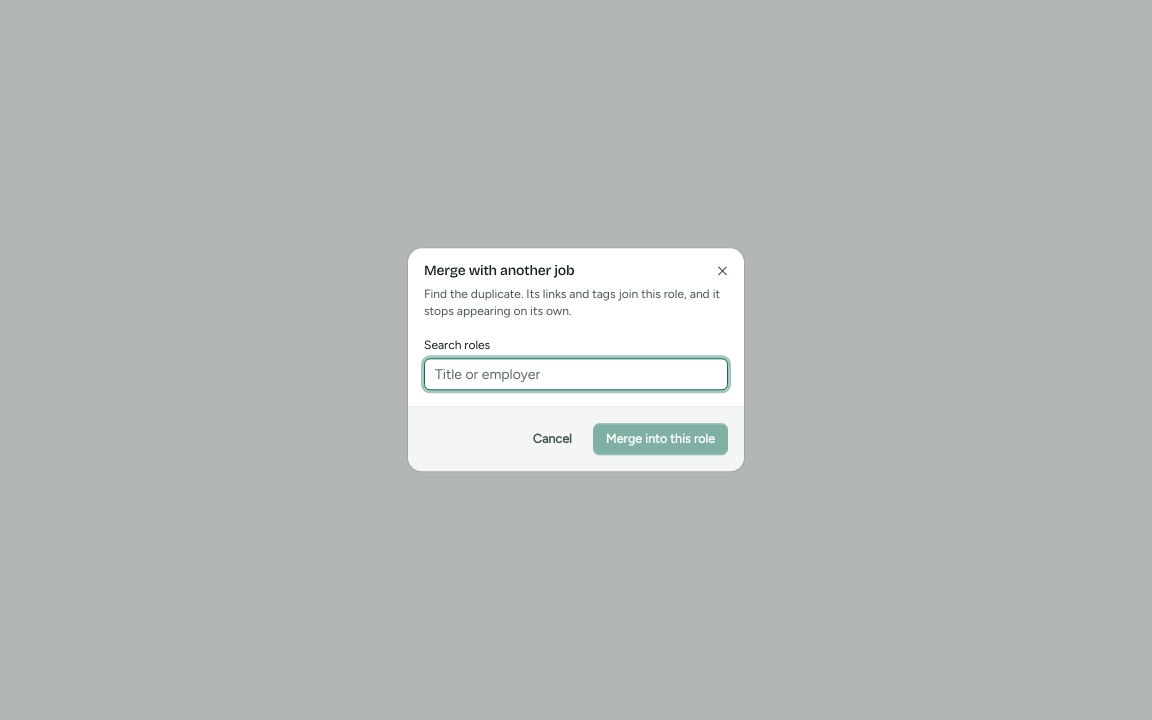
Test: MergeDialog › searches, previews what is kept, and merges
expect the button "Merge into this role" is disabled: met, box left=593, top=424, right=728, bottom=456
Type "Mulungushi Digital" into the field labelled "Search roles".
click(576, 375); type("Mulungushi Digital")  # box left=424, top=359, right=728, bottom=391
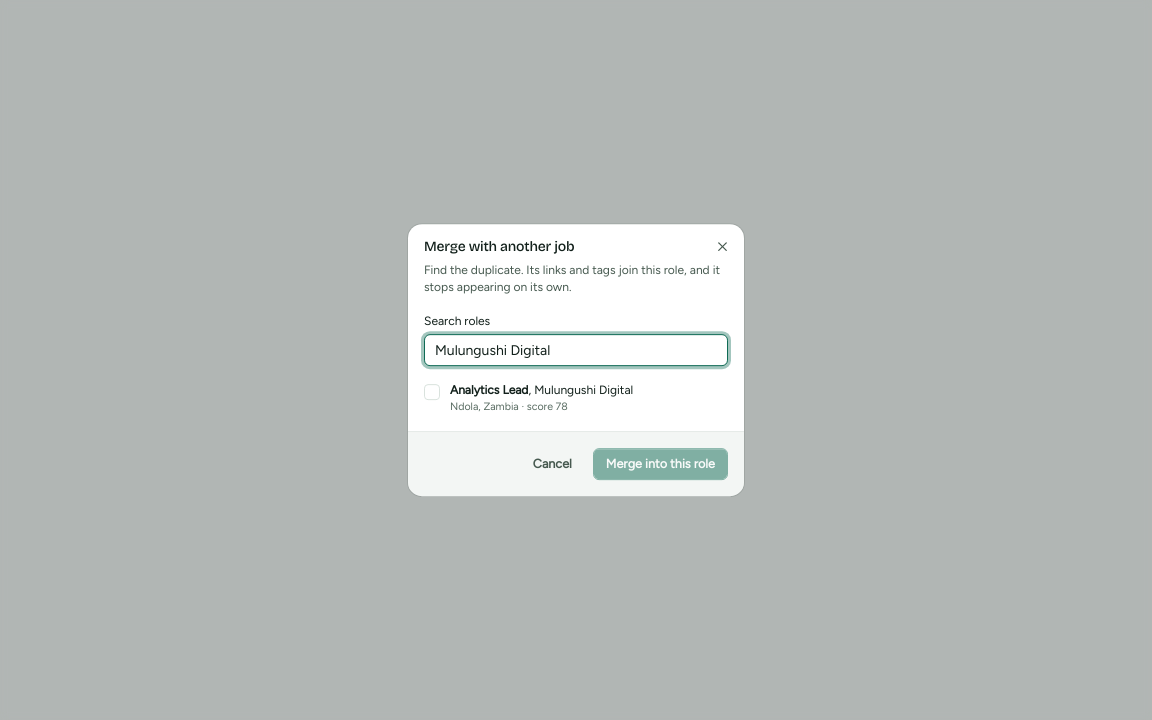
Click the checkbox.
click(432, 392)  # box left=424, top=384, right=440, bottom=400
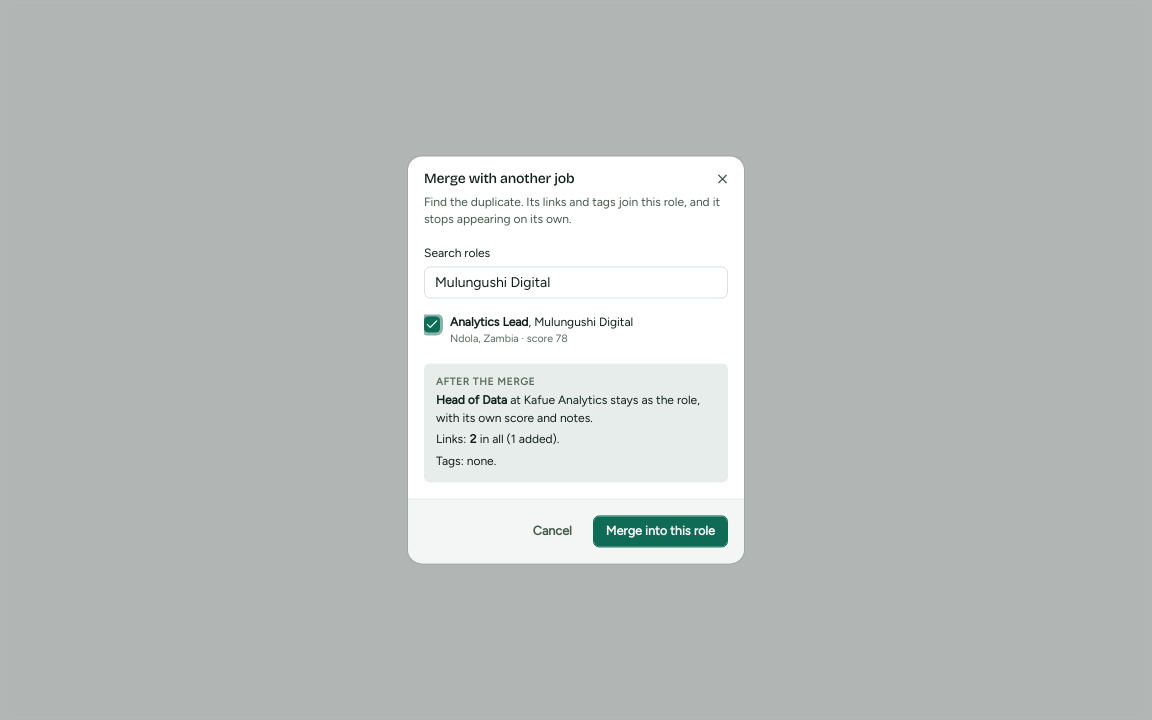
expect the element named "What will be kept" shows "Head of Data": met, box left=436, top=394, right=507, bottom=408
expect the element named "What will be kept" shows "2 in all (1 added)": met, box left=424, top=363, right=728, bottom=482
expect the button "Merge into this role" is enabled: met, box left=593, top=516, right=728, bottom=548
